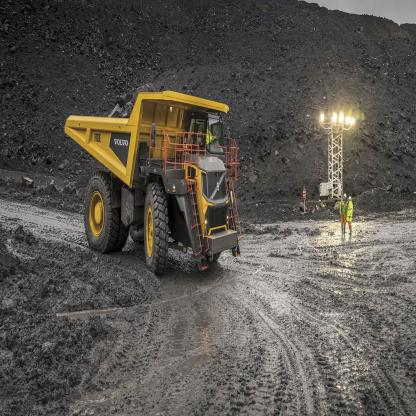dump_truck: (65, 82, 255, 283)
